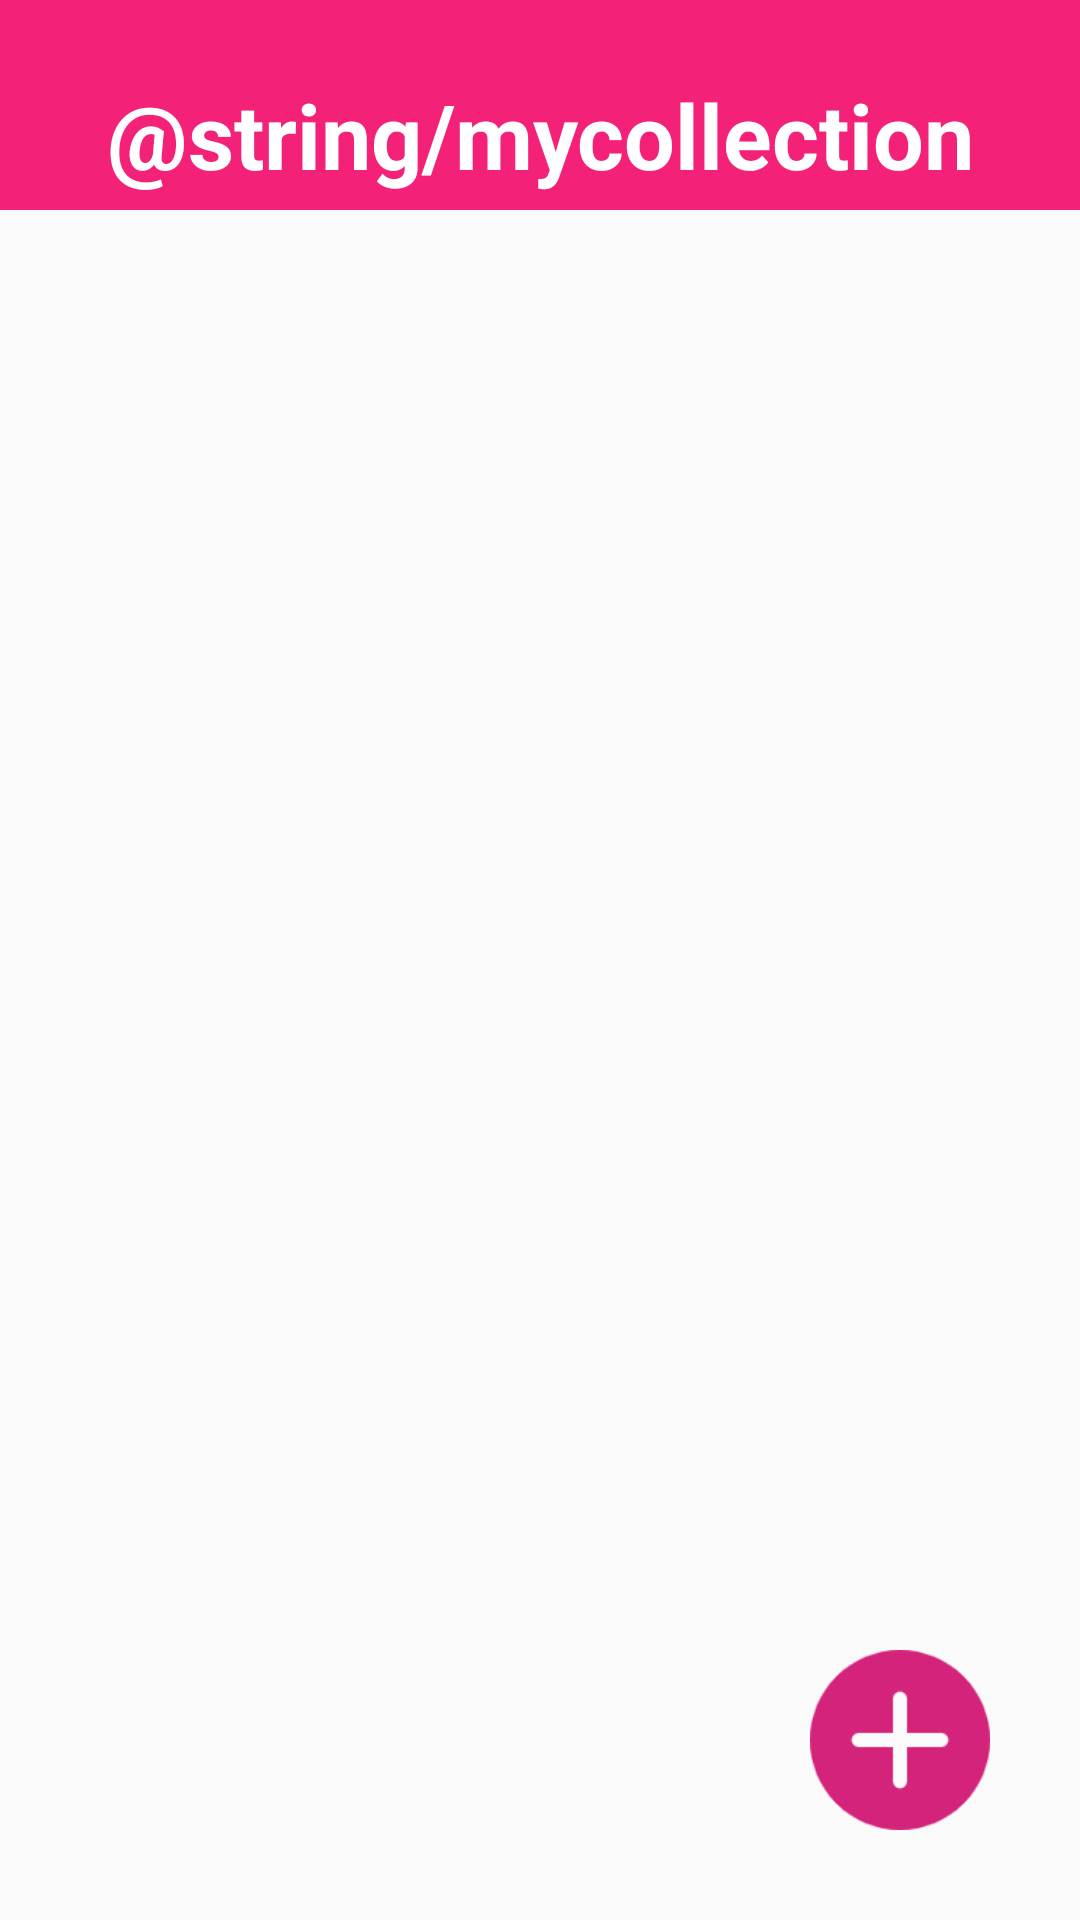

Icons on this 1080px×1920px Android screen, each with its box as [x1,y1,x2,y2]:
addimg: [810,1650,990,1830]
